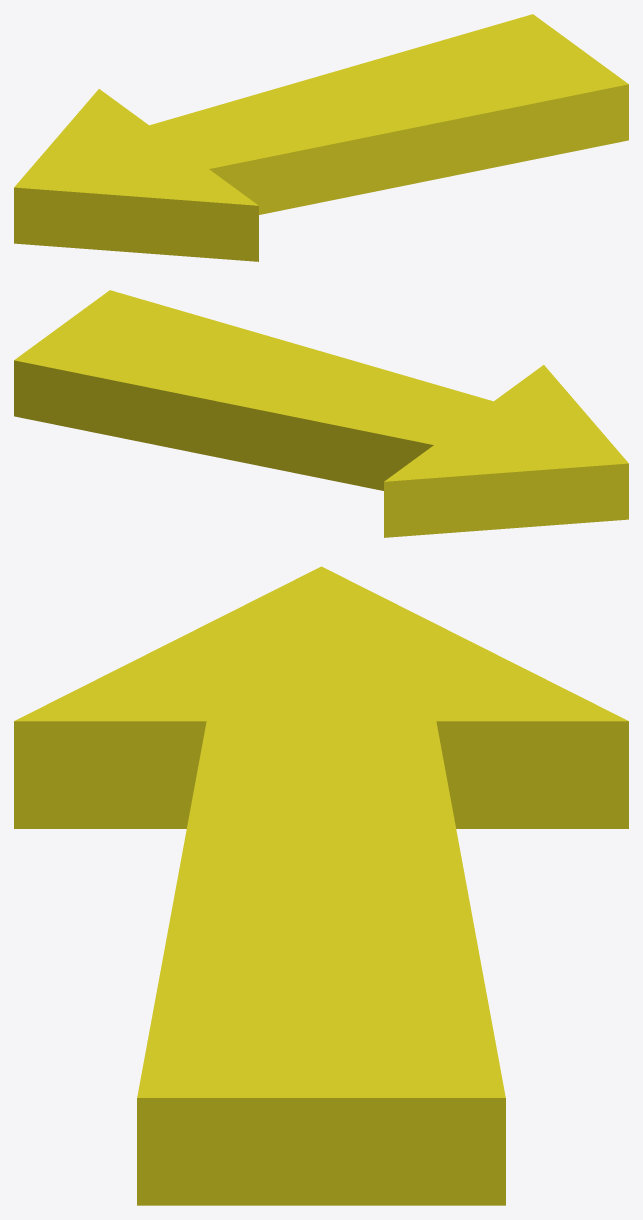
The model's file is arrow.fbx.
The picture shows the model from 3 angles, top to bottom: view 1: azimuth 30°, elevation 25°; view 2: azimuth 150°, elevation 25°; view 3: azimuth 270°, elevation 25°; orthographic projection. The views are drawn at different scales.
Parts seen in each view (by area): view 1: Cube; view 2: Cube; view 3: Cube.
Boxes of the visible parts, bbox=[...] form: Cube: bbox=[14, 14, 628, 261]; Cube: bbox=[14, 290, 628, 537]; Cube: bbox=[14, 566, 628, 1205].
Size of the model in its own units: 9.7 by 0.9158 by 4.74.
